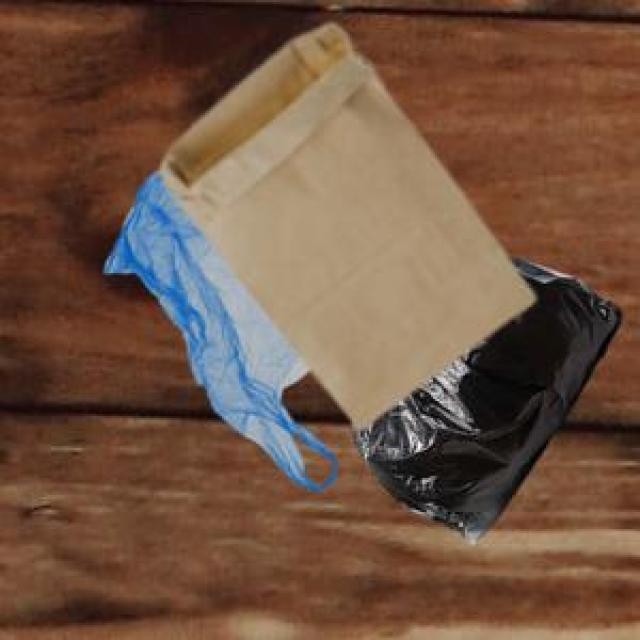miscellaneous trash: (350, 254, 619, 540)
paper: (158, 19, 531, 425)
